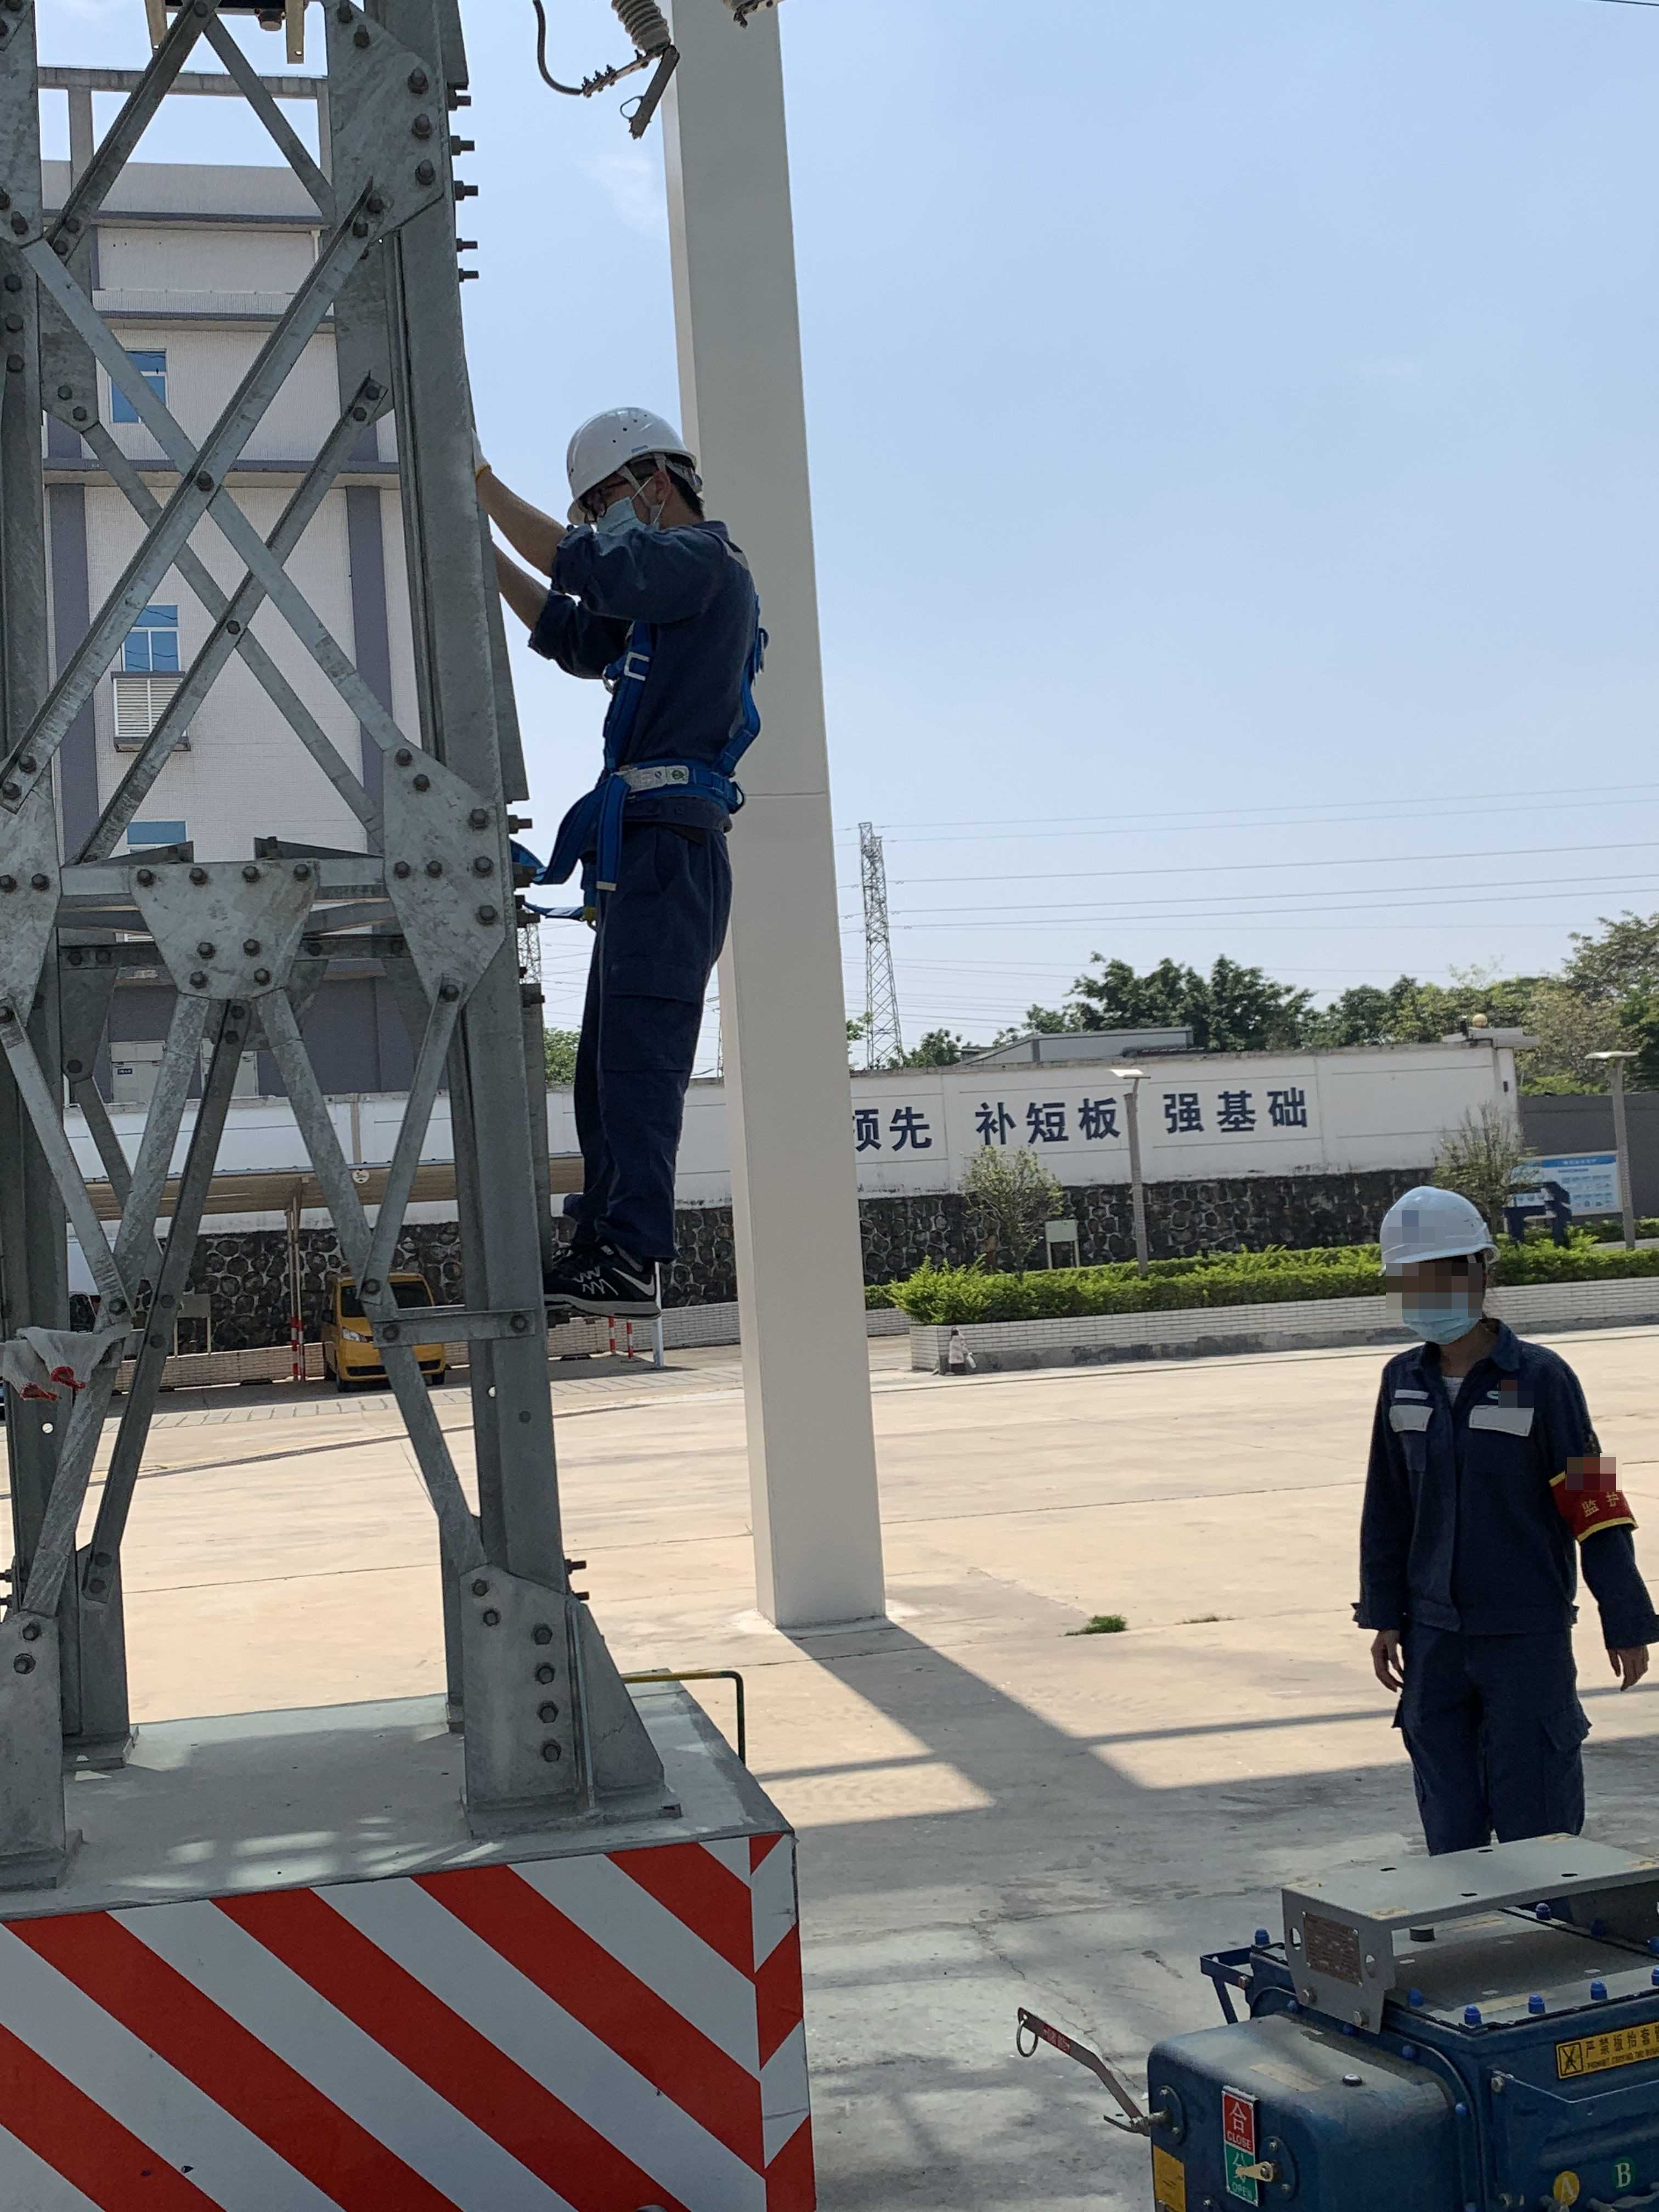downsuit: (565, 845, 732, 1258), (1389, 1655, 1595, 1846)
upsuit: (1349, 1336, 1631, 1639), (537, 509, 774, 812)
wrongtop: (477, 470, 580, 641)
